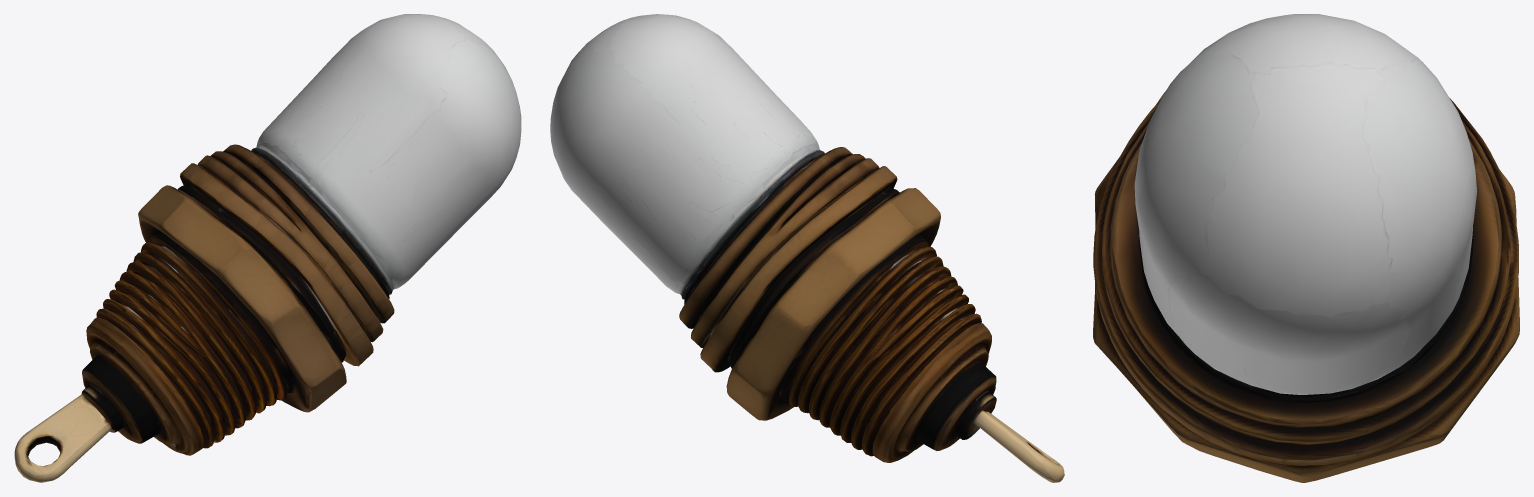
The model's file is light.glb.
3 views of the same model, side by side, from view 1: azimuth 30°, elevation 25°; view 2: azimuth 150°, elevation 25°; view 3: azimuth 270°, elevation 25° (orthographic). The views are drawn at different scales.
Parts seen in each view (by area): view 1: texture_pbr_v128; view 2: texture_pbr_v128; view 3: texture_pbr_v128.
Boxes of the visible parts, x1,y1,x2,y2 form: texture_pbr_v128: (14, 14, 521, 482); texture_pbr_v128: (550, 14, 1064, 482); texture_pbr_v128: (1093, 14, 1519, 482).
Bounding box in the file's own units: 1 × 0.7152 × 0.4684.
1 material, 1 textured.
